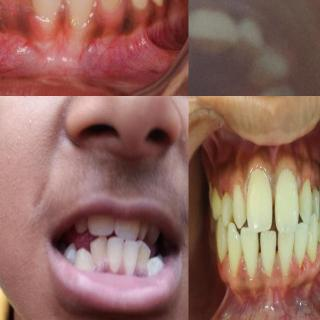Gum Swelling: (30, 0, 113, 34)
maligned: (234, 14, 262, 72), (118, 212, 146, 246), (136, 239, 154, 285), (89, 214, 117, 242), (122, 238, 138, 283), (89, 238, 110, 271), (66, 0, 100, 17), (2, 0, 36, 15), (34, 0, 66, 15), (135, 214, 149, 244), (147, 254, 164, 278), (76, 246, 92, 269), (76, 214, 87, 239)
